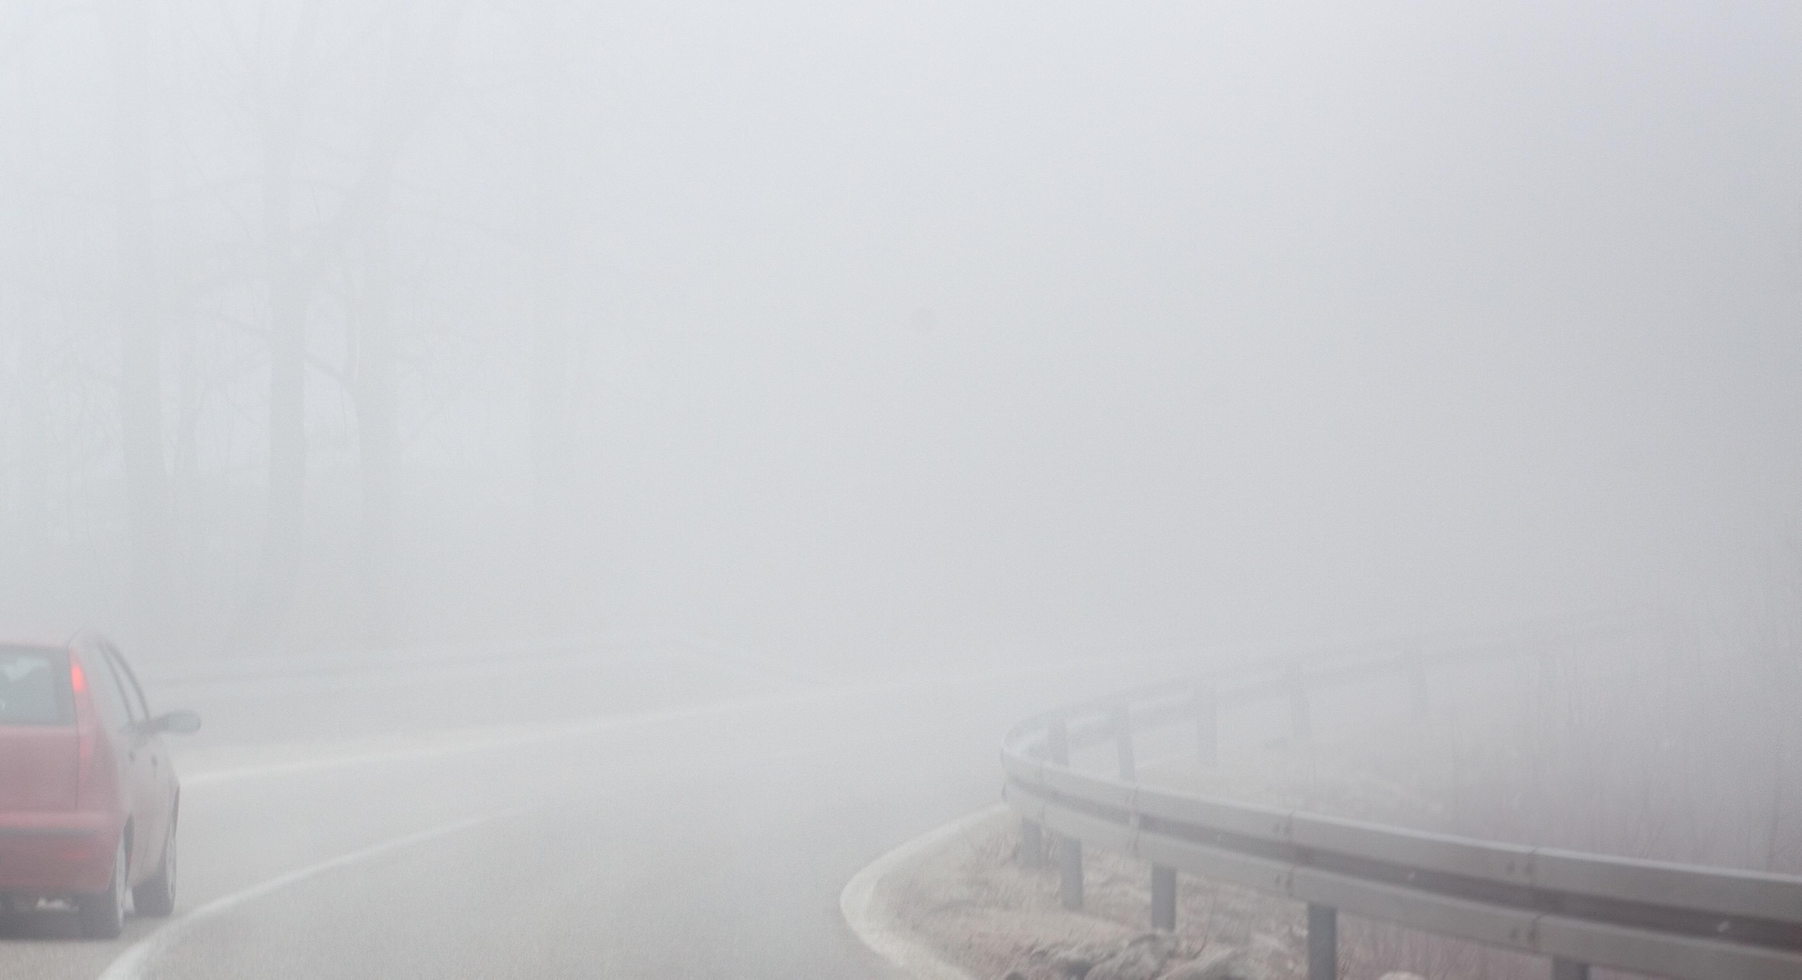backpack: (82, 627, 197, 921)
bench: (973, 728, 1802, 980)
bicycle: (73, 632, 196, 910)
bird: (73, 630, 197, 913)
boat: (18, 637, 167, 936)
bottle: (82, 627, 197, 921)
bus: (10, 632, 166, 940), (75, 636, 193, 927)
car: (980, 722, 1802, 980), (25, 636, 318, 967), (49, 635, 185, 929), (1, 637, 132, 940)
cell phone: (0, 633, 132, 946), (74, 630, 197, 919)
chair: (1, 640, 126, 937), (69, 635, 194, 918)
clock: (144, 712, 202, 739)
handbag: (82, 627, 197, 921)
kite: (73, 632, 196, 910)
motorcycle: (73, 635, 196, 915)
person: (18, 637, 167, 936), (73, 632, 196, 910)
refrigerator: (1, 637, 118, 929)
scissors: (73, 632, 196, 910)
sink: (845, 799, 1216, 967)
skateboard: (73, 632, 196, 910)
skis: (73, 635, 196, 915)
snowboard: (74, 630, 197, 919)
suitcase: (3, 657, 131, 936), (82, 627, 197, 921)
surfboard: (73, 632, 196, 910)
traffic light: (73, 634, 194, 926)
truck: (36, 633, 180, 935), (1, 640, 126, 937)
tv: (61, 629, 200, 930), (1, 640, 126, 937)
umbrella: (73, 634, 194, 926)
